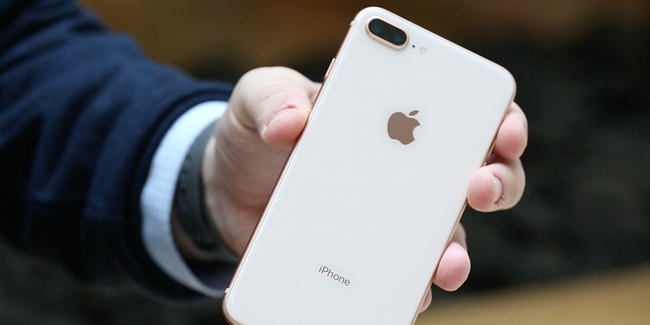apple: (381, 104, 434, 155)
